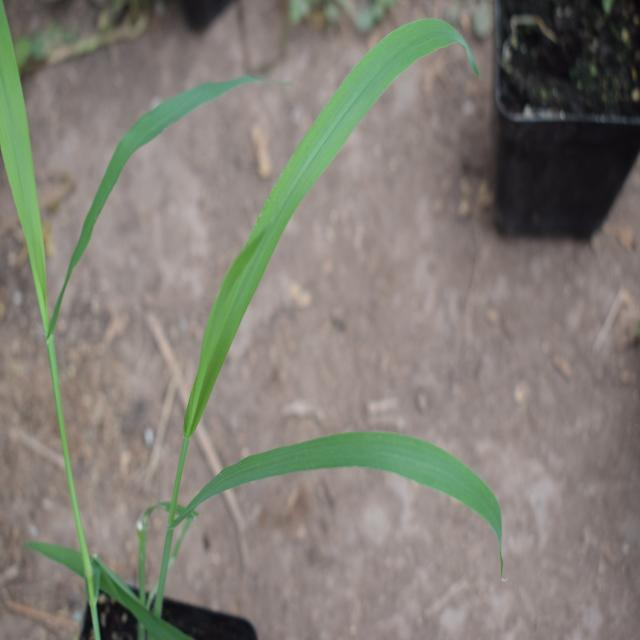crabgrass: (174, 27, 501, 542)
